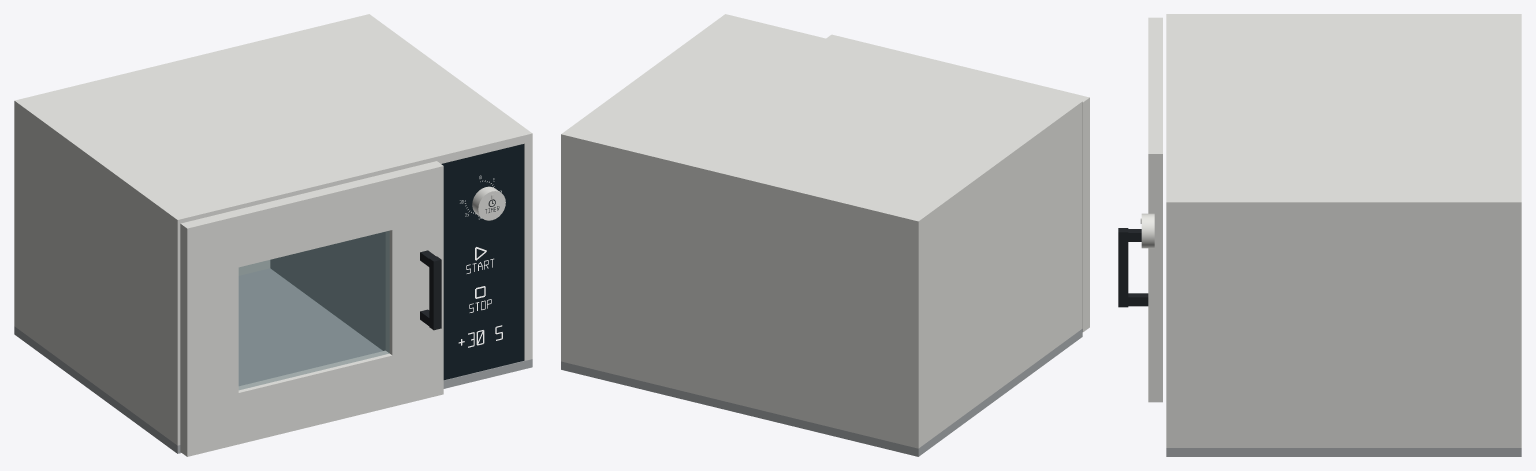
The picture shows the model from 3 angles, left to right: view 1: azimuth 30°, elevation 25°; view 2: azimuth 150°, elevation 25°; view 3: azimuth 270°, elevation 25°; orthographic projection. The views are drawn at different scales.
Parts seen in each view (by area): view 1: case_top, case_left, door_window, touch_panel, door_frame_left, cavity_floor, door_frame_right_inner, door_frame_top, door_frame_bottom, cavity_divider, door_frame_right, case_right (+2 smaller); view 2: case_back, case_top, case_left, cavity_floor, door_frame_left, case_right, door_frame_top; view 3: case_right, case_top, door_frame_right, cavity_floor, door_frame_top, door_handle, timer_knob_dial, door_frame_left.
Part boxes in pixels (<box>): case_top: <box>14,14,532,228</box>; case_left: <box>14,109,180,445</box>; door_window: <box>239,231,389,389</box>; touch_panel: <box>441,144,524,380</box>; door_frame_left: <box>180,211,238,456</box>; cavity_floor: <box>14,268,532,453</box>; door_frame_right_inner: <box>385,164,431,406</box>; door_frame_top: <box>232,173,392,267</box>; door_frame_bottom: <box>238,350,392,444</box>; cavity_divider: <box>270,232,385,350</box>; door_frame_right: <box>425,161,443,396</box>; case_right: <box>524,141,532,360</box>; case_back: <box>569,144,910,446</box>; case_top: <box>561,14,1082,229</box>; case_left: <box>910,110,1082,448</box>; cavity_floor: <box>561,329,1082,456</box>; door_frame_left: <box>1033,85,1089,331</box>; case_right: <box>561,142,568,363</box>; door_frame_top: <box>878,47,1037,88</box>; case_right: <box>1166,211,1521,447</box>; case_top: <box>1166,14,1521,211</box>; door_frame_right: <box>1148,147,1162,402</box>; cavity_floor: <box>1166,448,1521,456</box>; door_frame_top: <box>1148,45,1162,126</box>; door_handle: <box>1118,228,1128,307</box>; timer_knob_dial: <box>1141,213,1154,248</box>; door_frame_left: <box>1148,17,1162,44</box>.
Size of the model in its own units: 0.54 by 0.34 by 0.488.
